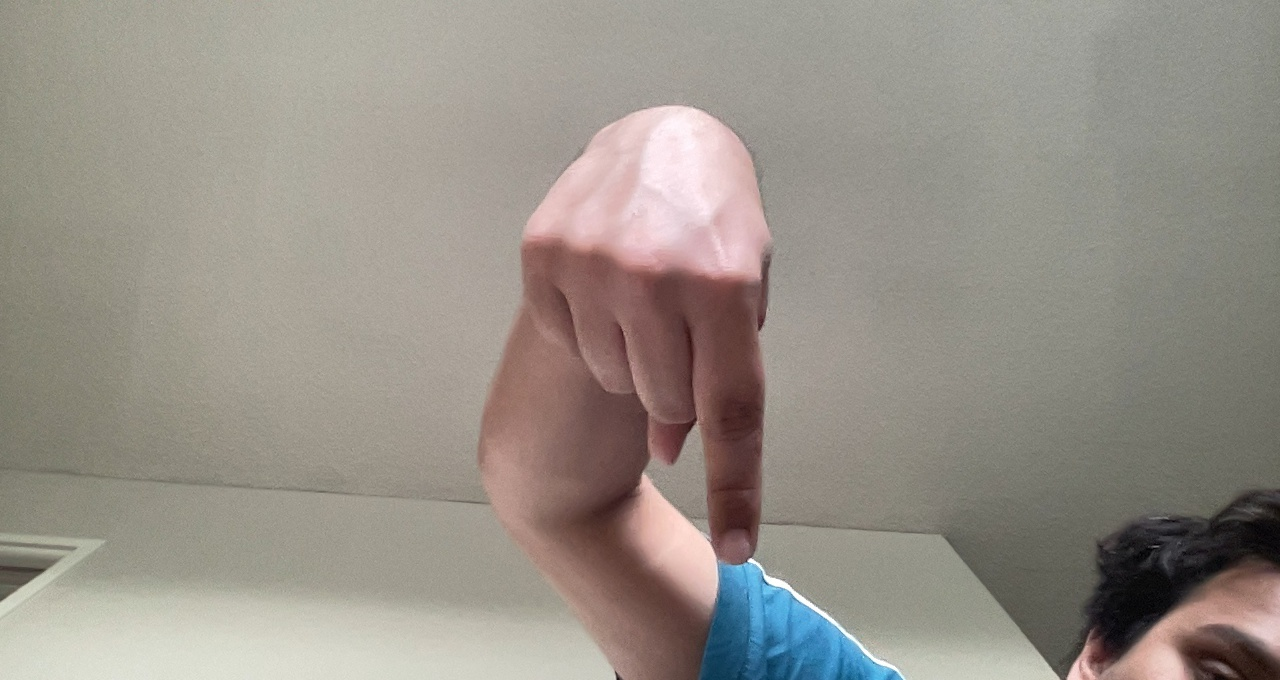fingerdown: (513, 101, 778, 568)
